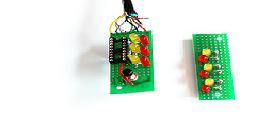LED: (195, 52, 211, 65), (200, 83, 215, 95), (139, 45, 153, 57), (129, 54, 140, 65)
